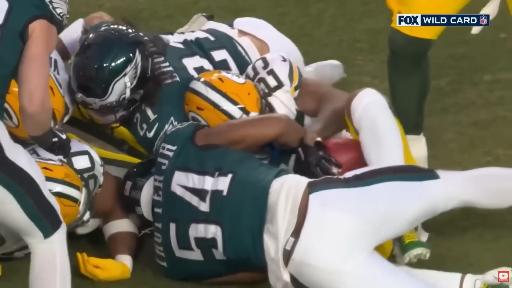Helmet: (71, 23, 151, 123), (185, 71, 265, 127), (35, 158, 90, 229), (119, 159, 155, 219), (49, 72, 72, 126)
Jersey: (152, 123, 288, 280), (127, 29, 250, 152), (0, 0, 68, 106), (244, 54, 306, 125), (245, 54, 306, 126), (67, 140, 103, 194), (50, 50, 74, 123)
Player: (78, 114, 511, 287), (72, 21, 303, 157), (246, 55, 415, 165), (387, 0, 470, 166), (0, 0, 69, 155), (27, 137, 111, 234), (228, 18, 345, 83), (27, 140, 103, 232)
